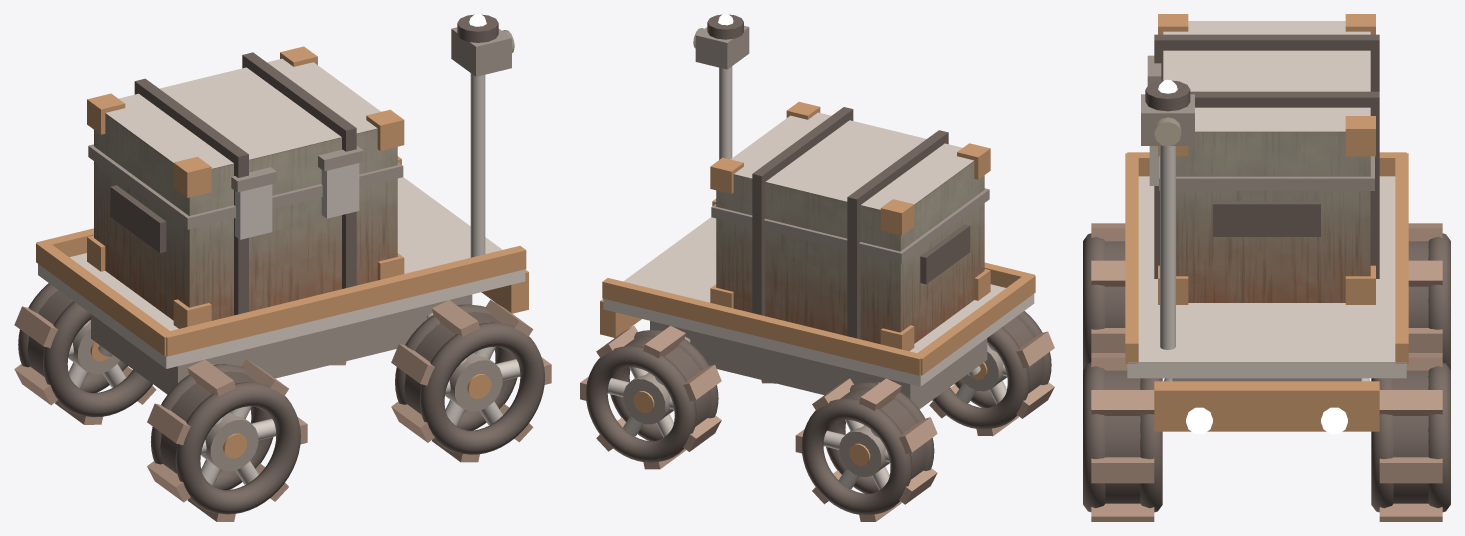
File: V11_cargo_robot_large.glb
3 views of the same model, side by side, from view 1: azimuth 30°, elevation 25°; view 2: azimuth 150°, elevation 25°; view 3: azimuth 270°, elevation 25° (orthographic). The views are drawn at different scales.
Visible parts, largest first — view 1: tire, shell, hub, tread, spoke; view 2: tire, shell, hub, tread, spoke; view 3: tire, shell, tread, hub, spoke, beacon, camera_lens.
Part boxes in pixels (x1,y1,x2,y2): tire: (18, 14, 544, 514); shell: (94, 113, 397, 320); hub: (68, 27, 511, 471); tread: (14, 300, 551, 521); spoke: (68, 73, 520, 485); tire: (586, 14, 1051, 515); shell: (716, 161, 984, 344); hub: (623, 25, 1006, 476); tread: (580, 326, 1054, 521); spoke: (607, 66, 1007, 489); tire: (1083, 14, 1450, 512); shell: (1176, 131, 1370, 302); tread: (1091, 223, 1442, 521); hub: (1141, 55, 1374, 381); spoke: (1149, 146, 1369, 381); beacon: (1158, 79, 1347, 433); camera_lens: (1154, 117, 1181, 146).
Size of the model in its own units: 1.73 by 1.76 by 1.31.
Materials: 7 (1 with a texture image).
